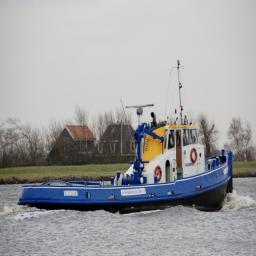tugboat: (17, 59, 237, 222)
